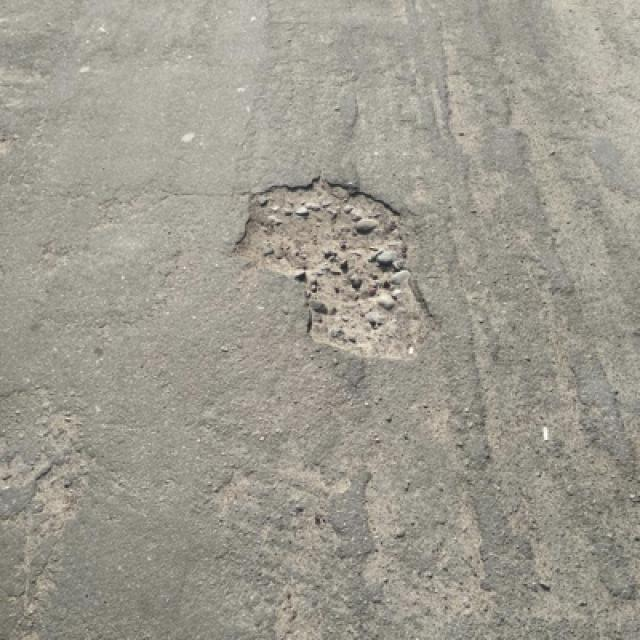Pothole: (230, 174, 440, 370)
